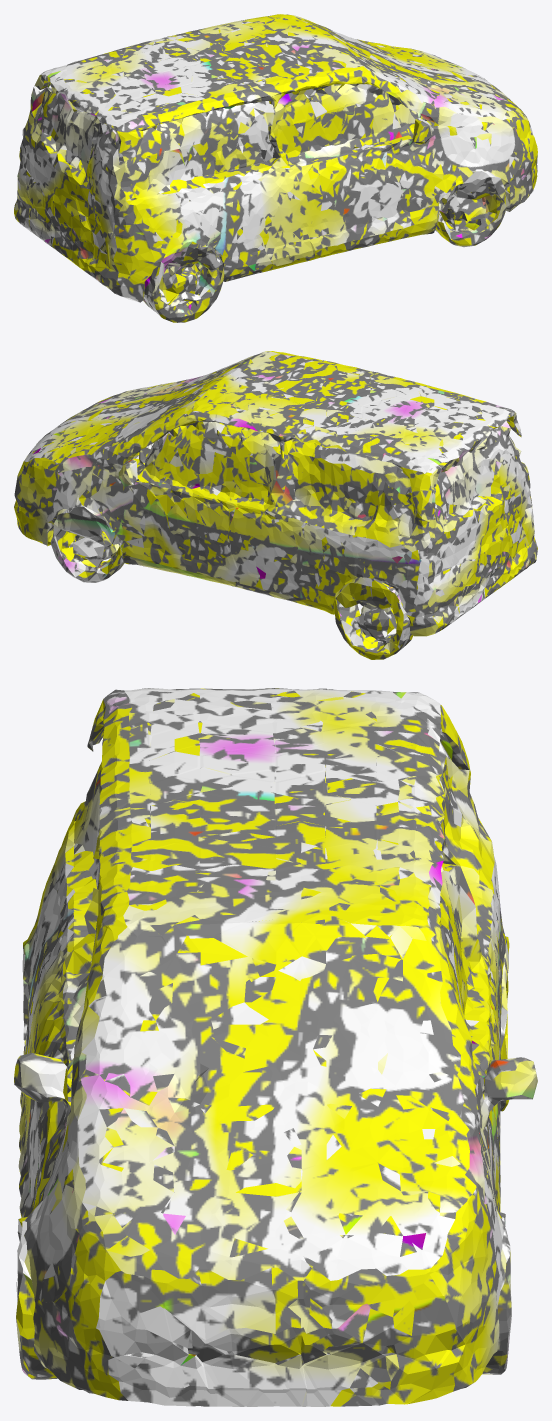
3 views of the same model, one above another, from view 1: azimuth 30°, elevation 25°; view 2: azimuth 150°, elevation 25°; view 3: azimuth 270°, elevation 25° (orthographic). The views are drawn at different scales.
Size of the model in its own units: 0.8951 by 0.376 by 0.458.
